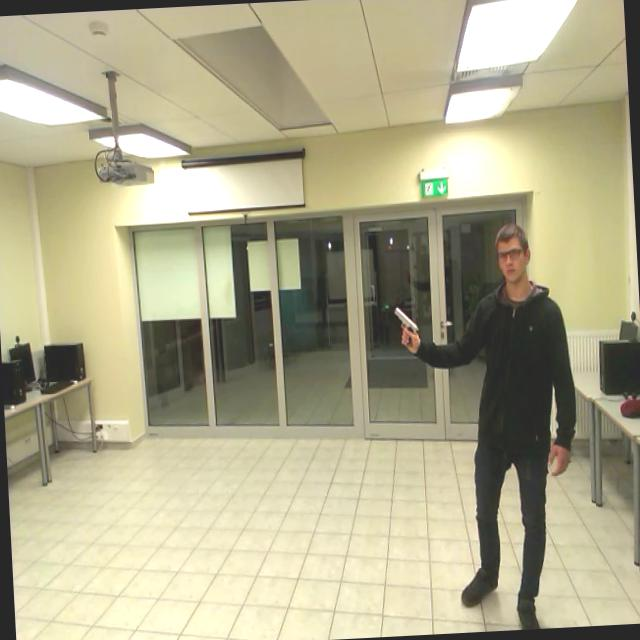handgun: (392, 302, 424, 365)
